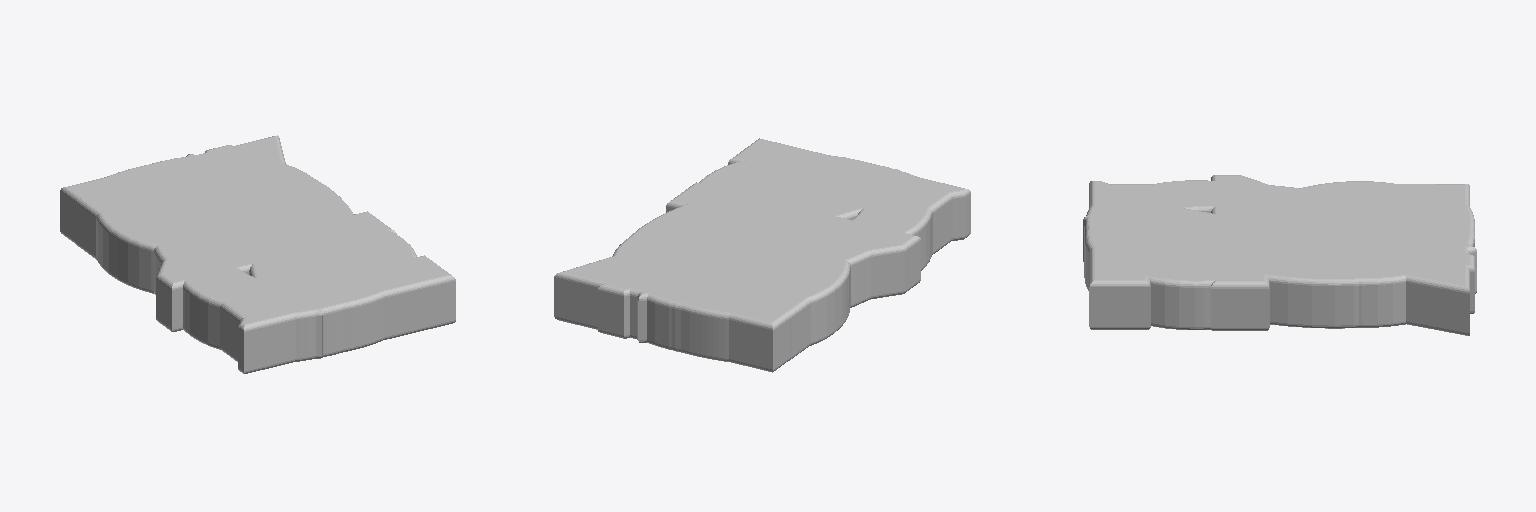
The model's file is numbers.obj.
3 views of the same model, side by side, from view 1: azimuth 30°, elevation 25°; view 2: azimuth 150°, elevation 25°; view 3: azimuth 270°, elevation 25° (orthographic).
Visible parts, largest first — view 1: two_Text.001, six_Text.005, eight_Text.007, nine_Text.008, five_Text.004, four_Text.003, seven_Text.006, one_Text, three_Text.002; view 2: seven_Text.006, four_Text.003, eight_Text.007, two_Text.001, nine_Text.008, six_Text.005, three_Text.002, one_Text, five_Text.004; view 3: four_Text.003, eight_Text.007, two_Text.001, nine_Text.008, seven_Text.006, five_Text.004, three_Text.002, six_Text.005, one_Text.
Part boxes in pixels (x1,y1,x2,y2): two_Text.001: (76,160,455,373); six_Text.005: (152,154,409,349); eight_Text.007: (108,156,416,351); nine_Text.008: (96,159,353,357); five_Text.004: (92,146,394,361); four_Text.003: (156,145,423,339); seven_Text.006: (60,135,321,358); one_Text: (152,158,369,303); three_Text.002: (88,159,390,356); seven_Text.006: (554,169,914,372); four_Text.003: (598,146,920,338); eight_Text.007: (613,154,932,349); two_Text.001: (637,138,970,360); nine_Text.008: (624,169,902,352); six_Text.005: (636,155,916,342); three_Text.002: (640,159,940,361); one_Text: (655,159,881,304); five_Text.004: (597,159,952,365); four_Text.003: (1090,175,1474,330); eight_Text.007: (1084,180,1474,329); two_Text.001: (1089,181,1474,329); nine_Text.008: (1083,181,1474,328); seven_Text.006: (1084,184,1469,335); five_Text.004: (1085,184,1469,273); three_Text.002: (1084,188,1474,270); six_Text.005: (1084,183,1476,293); one_Text: (1146,220,1405,241).
Bounding box in the file's own units: 0.5044 × 0.1 × 0.727.